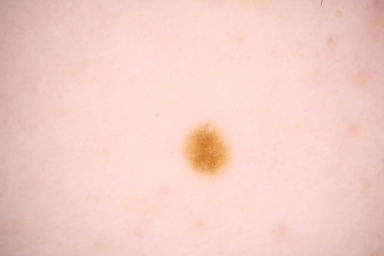melanoma: (185, 125, 229, 173)
